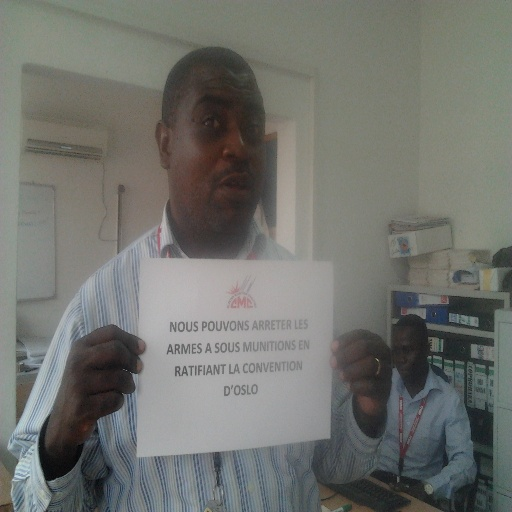hand: (18, 327, 134, 507), (328, 328, 393, 419), (387, 479, 431, 504)
